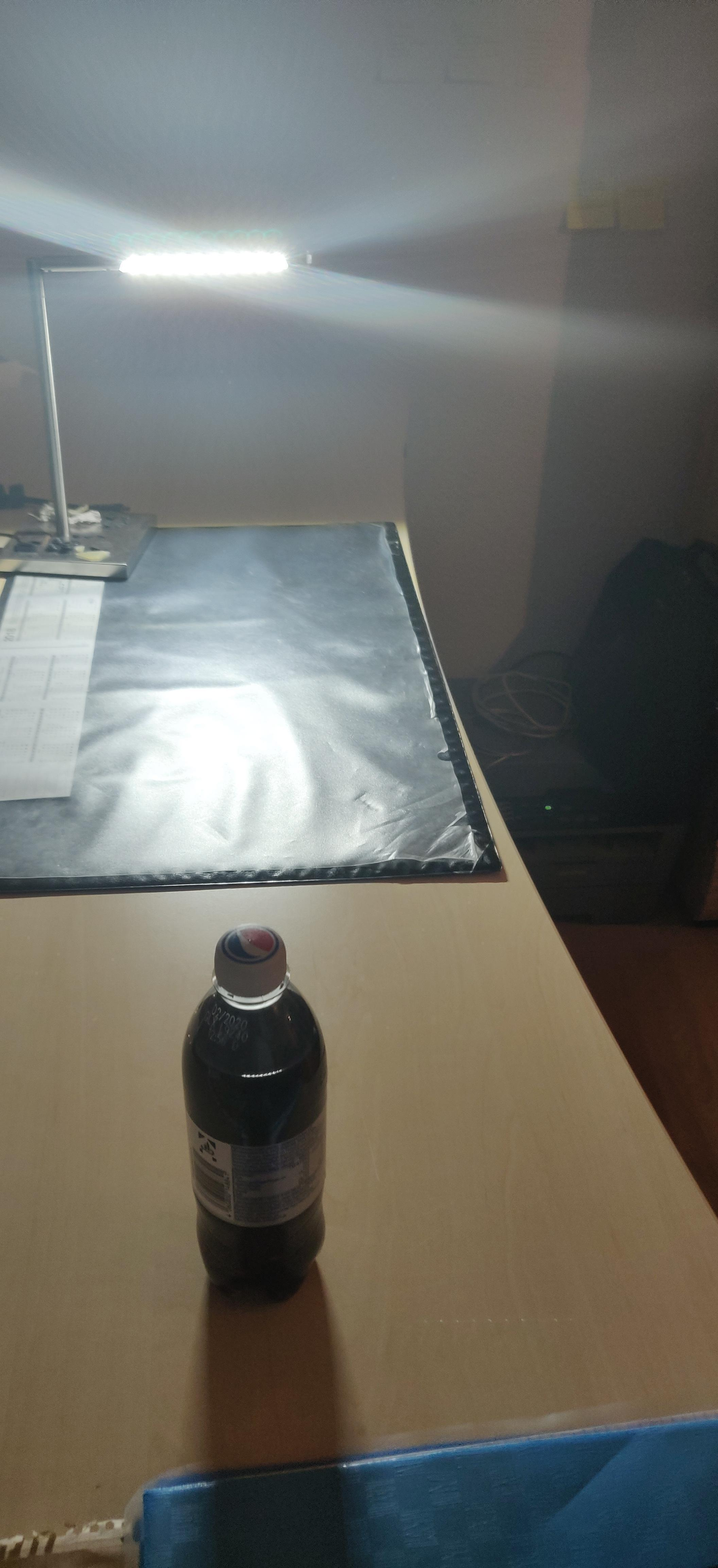bottle-plastic: (180, 926, 328, 1305)
